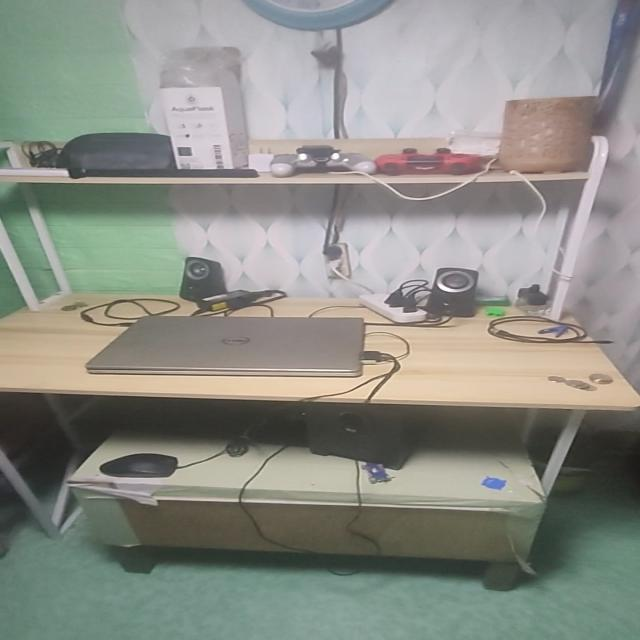table: (0, 282, 640, 599)
